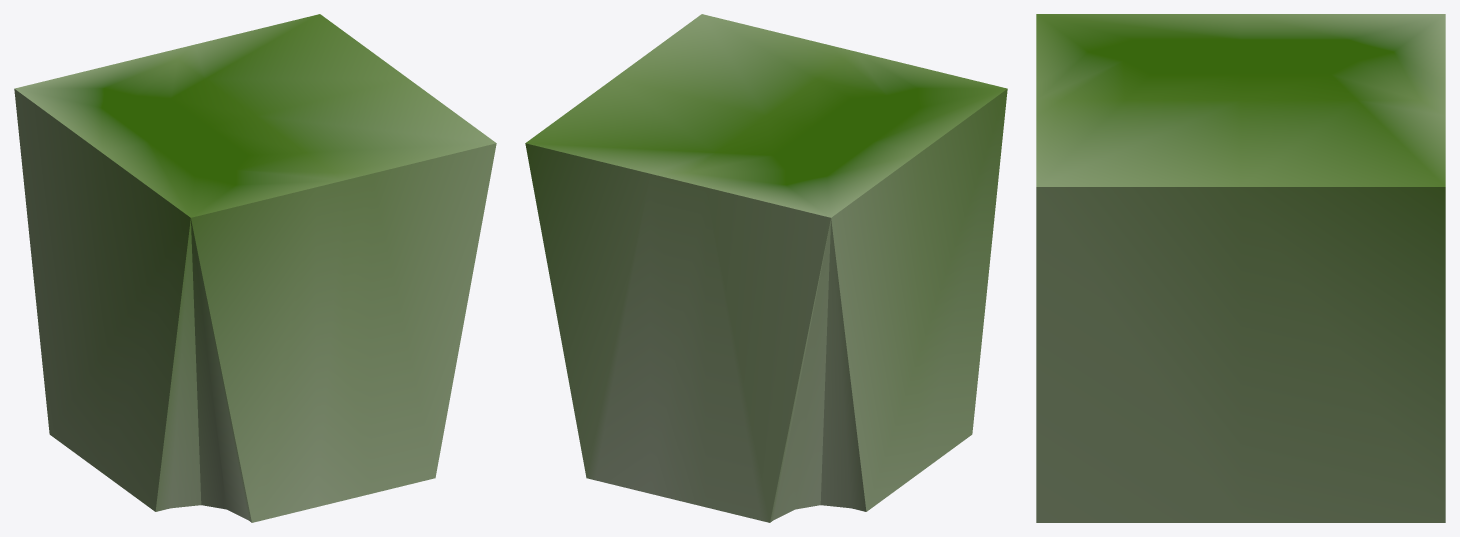
File: T10DirF.fbx
The picture shows the model from 3 angles, left to right: view 1: azimuth 30°, elevation 25°; view 2: azimuth 150°, elevation 25°; view 3: azimuth 270°, elevation 25°; orthographic projection. The views are drawn at different scales.
Visible parts, largest first — view 1: 3, 1, 4, 2; view 2: 4, 2, 3, 1; view 3: 1, 2, 3, 4.
Boxes of the visible parts, x1=… form: 3: x1=102, y1=116, x2=343, y2=522; 1: x1=256, y1=78, x2=496, y2=500; 4: x1=14, y1=51, x2=254, y2=472; 2: x1=167, y1=14, x2=407, y2=115; 4: x1=678, y1=116, x2=919, y2=522; 2: x1=525, y1=78, x2=765, y2=500; 3: x1=767, y1=51, x2=1007, y2=472; 1: x1=614, y1=14, x2=854, y2=115; 1: x1=1036, y1=100, x2=1240, y2=522; 2: x1=1241, y1=100, x2=1445, y2=522; 3: x1=1036, y1=14, x2=1240, y2=100; 4: x1=1241, y1=14, x2=1445, y2=100.
Size of the model in its own units: 200 by 200 by 200.
